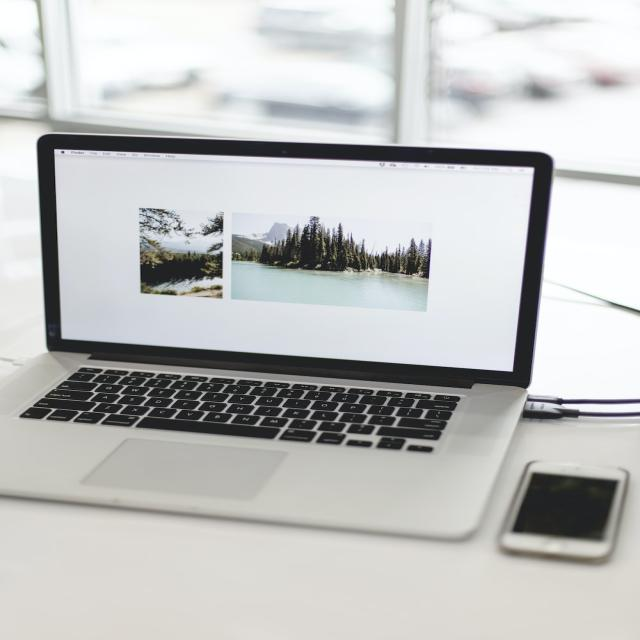keyboard: (7, 360, 483, 530)
